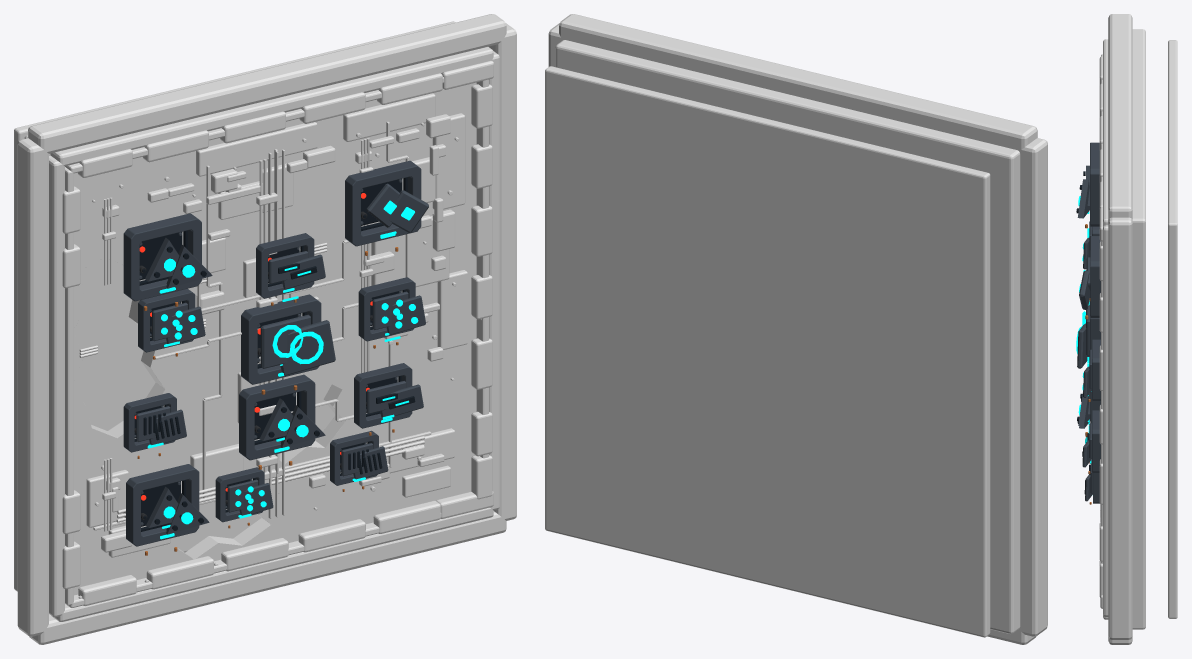
The model's file is QF_MachineCube_Face4_NodeKitV2.fbx.
The picture shows the model from 3 angles, left to right: view 1: azimuth 30°, elevation 25°; view 2: azimuth 150°, elevation 25°; view 3: azimuth 270°, elevation 25°; orthographic projection. The views are drawn at different scales.
Parts seen in each view (by area): view 1: C2_DamagedSkin, C2_OuterFrame_Left, C2_OuterFrame_Top, C2_RearBulkhead, C2_OuterFrame_Bottom, C2_OuterFrame_Right, C2_MiddleFrame_Left, C2_MiddleFrame_Top, C2_MiddleFrame_Bottom, C2_MiddleFrame_Right, C2_MacroPanel_00, F4S00_DAMAGED_NODE_04_RELAY_DAMAGED_FrameIntegrated (+62 smaller); view 2: C2_RearBulkhead, C2_DamagedSkin, C2_OuterFrame_Left, C2_OuterFrame_Top; view 3: C2_OuterFrame_Right, C2_DamagedSkin, C2_RearBulkhead, C2_OuterFrame_Top, C2_MiddleFrame_Right, C2_MiddleFrame_Top, F4S00_DAMAGED_NODE_04_RELAY_DAMAGED_FrameIntegrated, F4S01_DAMAGED_NODE_05_DIAMOND_DAMAGED_FrameIntegrated, F4S08_DAMAGED_NODE_06_HORIZONTAL_DAMAGED_FrameIntegrated, F4S05_DAMAGED_NODE_02_SENSOR_DAMAGED_FrameIntegrated, F4S04_DAMAGED_RingPlate.001, F4S00_DAMAGED_RelayTriangle.001 (+10 smaller).
Boxes of the visible parts, x1=… form: C2_DamagedSkin: x1=24, y1=82, x2=476, y2=595; C2_OuterFrame_Left: x1=17, y1=138, x2=48, y2=636; C2_OuterFrame_Top: x1=28, y1=14, x2=506, y2=153; C2_RearBulkhead: x1=14, y1=21, x2=455, y2=591; C2_OuterFrame_Bottom: x1=29, y1=511, x2=506, y2=644; C2_OuterFrame_Right: x1=488, y1=23, x2=516, y2=520; C2_MiddleFrame_Left: x1=49, y1=155, x2=64, y2=617; C2_MiddleFrame_Top: x1=50, y1=47, x2=493, y2=166; C2_MiddleFrame_Bottom: x1=52, y1=507, x2=493, y2=621; C2_MiddleFrame_Right: x1=489, y1=51, x2=499, y2=510; C2_MacroPanel_00: x1=196, y1=122, x2=317, y2=176; F4S00_DAMAGED_NODE_04_RELAY_DAMAGED_FrameIntegrated: x1=123, y1=213, x2=201, y2=301; C2_RearBulkhead: x1=545, y1=66, x2=990, y2=637; C2_DamagedSkin: x1=555, y1=40, x2=1020, y2=634; C2_OuterFrame_Left: x1=1018, y1=138, x2=1047, y2=636; C2_OuterFrame_Top: x1=559, y1=14, x2=1037, y2=152; C2_OuterFrame_Right: x1=1108, y1=217, x2=1132, y2=639; C2_DamagedSkin: x1=1132, y1=29, x2=1145, y2=629; C2_RearBulkhead: x1=1168, y1=40, x2=1177, y2=618; C2_OuterFrame_Top: x1=1108, y1=14, x2=1132, y2=218; C2_MiddleFrame_Right: x1=1103, y1=225, x2=1108, y2=616; C2_MiddleFrame_Top: x1=1103, y1=39, x2=1108, y2=226; F4S00_DAMAGED_NODE_04_RELAY_DAMAGED_FrameIntegrated: x1=1090, y1=142, x2=1099, y2=226; F4S01_DAMAGED_NODE_05_DIAMOND_DAMAGED_FrameIntegrated: x1=1090, y1=236, x2=1100, y2=317; F4S08_DAMAGED_NODE_06_HORIZONTAL_DAMAGED_FrameIntegrated: x1=1092, y1=410, x2=1100, y2=472; F4S05_DAMAGED_NODE_02_SENSOR_DAMAGED_FrameIntegrated: x1=1092, y1=339, x2=1100, y2=400; F4S04_DAMAGED_RingPlate.001: x1=1077, y1=323, x2=1089, y2=368; F4S00_DAMAGED_RelayTriangle.001: x1=1077, y1=179, x2=1089, y2=218.
Size of the model in its own units: 8.86 by 8.86 by 1.86.
